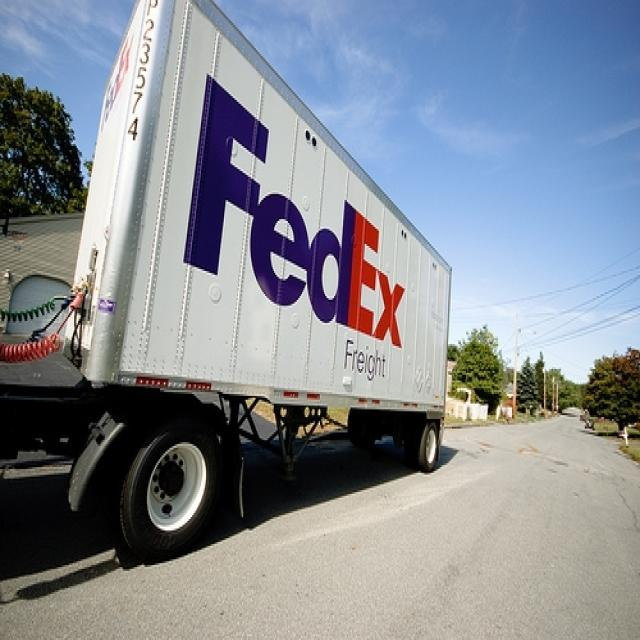fedex: (176, 64, 412, 353)
